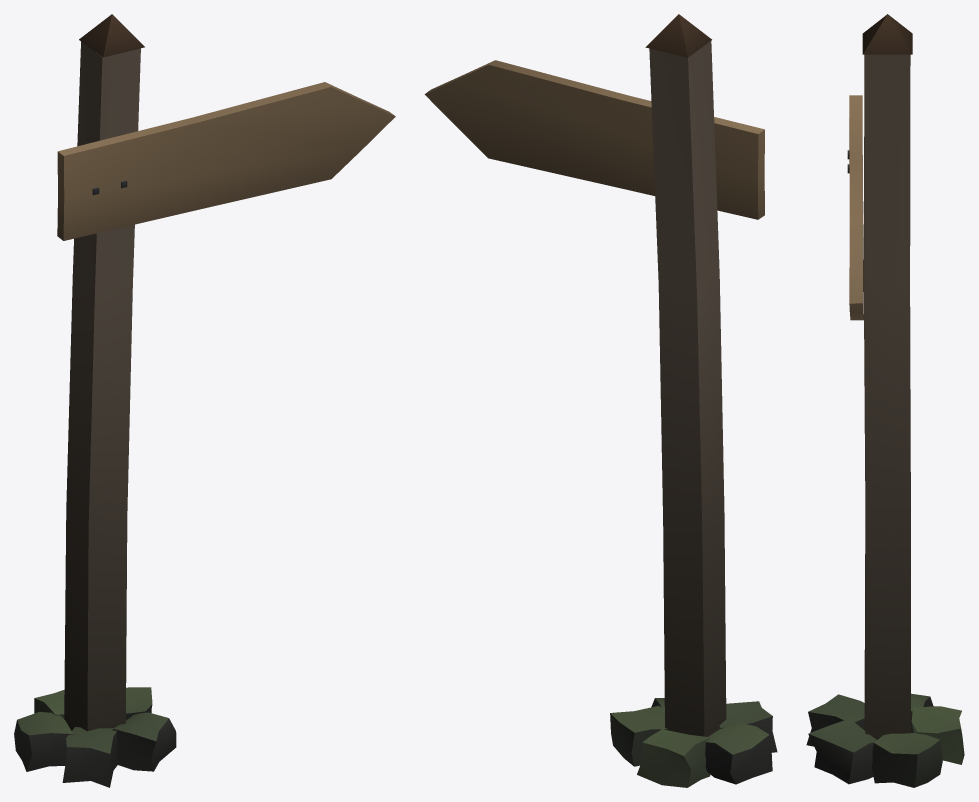
Rendered from ph_prop_signpost.glb.
The picture shows the model from 3 angles, left to right: view 1: azimuth 30°, elevation 25°; view 2: azimuth 150°, elevation 25°; view 3: azimuth 270°, elevation 25°; orthographic projection. The views are drawn at different scales.
Visible parts, largest first — view 1: ph_prop_signpost; view 2: ph_prop_signpost; view 3: ph_prop_signpost.
Boxes of the visible parts, bbox=[...] form: ph_prop_signpost: bbox=[14, 14, 395, 787]; ph_prop_signpost: bbox=[424, 14, 777, 787]; ph_prop_signpost: bbox=[806, 14, 964, 787].
Bounding box in the file's own units: 1.01 × 2 × 0.38.
